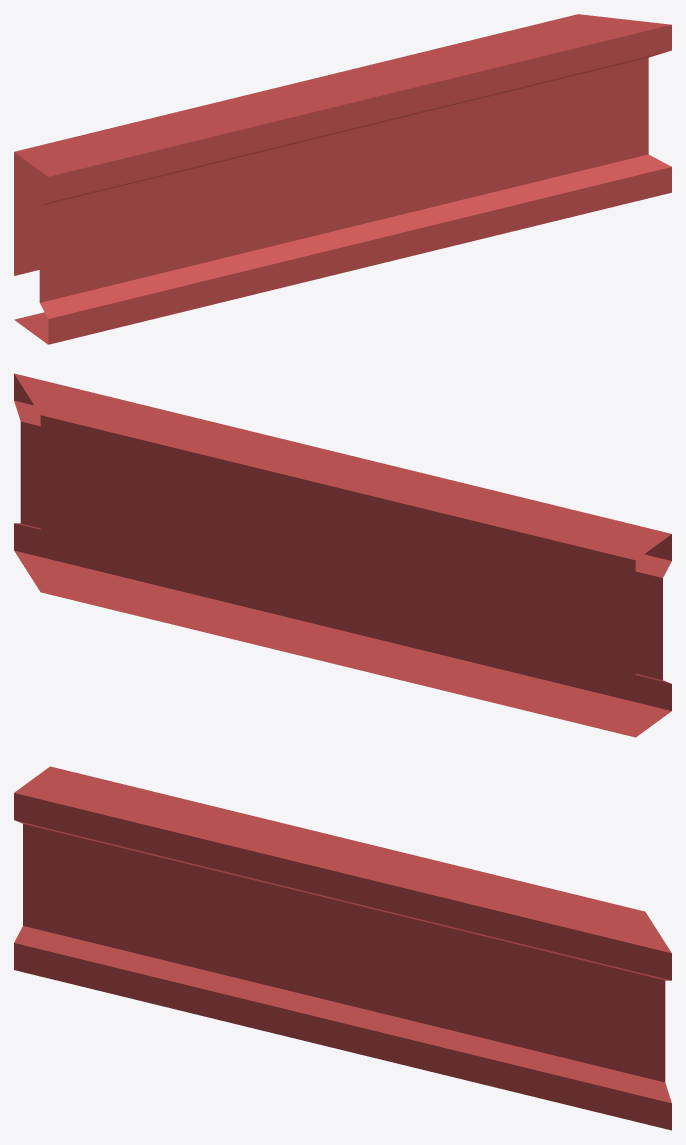
File: Cornice_Small_Metal_R.gltf
The picture shows the model from 3 angles, top to bottom: view 1: azimuth 30°, elevation 25°; view 2: azimuth 150°, elevation 25°; view 3: azimuth 330°, elevation 25°; orthographic projection. The views are drawn at different scales.
Visible parts, largest first — view 1: Cornice_Small_Metal_R; view 2: Cornice_Small_Metal_R; view 3: Cornice_Small_Metal_R.
Part boxes in pixels (bbox=[...]): Cornice_Small_Metal_R: bbox=[14, 14, 671, 344]; Cornice_Small_Metal_R: bbox=[14, 373, 671, 737]; Cornice_Small_Metal_R: bbox=[14, 766, 671, 1130].
Size of what is drawn, in the model's own units: 2.1 by 0.5403 by 0.2.
